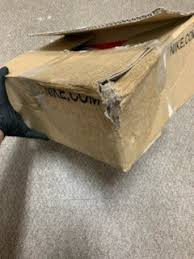damaged package: (91, 67, 133, 128)
